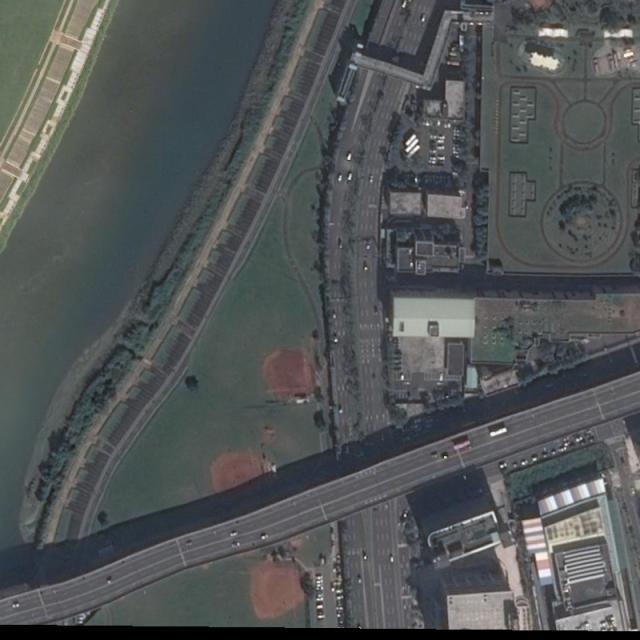vehicle: (406, 138, 420, 153), (407, 145, 421, 158), (453, 441, 470, 451), (490, 428, 507, 438), (406, 134, 417, 147), (532, 454, 540, 462), (499, 462, 508, 469), (558, 446, 567, 453), (402, 1, 409, 9), (346, 153, 352, 162), (421, 14, 427, 22), (261, 534, 269, 540), (230, 532, 238, 538), (431, 452, 439, 458), (542, 452, 550, 458), (575, 436, 583, 442), (521, 460, 528, 466), (11, 603, 19, 608), (232, 542, 240, 547), (338, 173, 342, 182), (348, 171, 352, 180), (551, 450, 558, 455), (564, 441, 571, 446), (366, 242, 370, 250), (370, 174, 374, 182), (338, 241, 342, 248), (390, 555, 394, 562), (363, 552, 366, 559), (316, 576, 323, 579), (358, 577, 362, 582), (317, 587, 323, 590), (316, 580, 322, 583), (317, 598, 323, 601), (316, 584, 323, 586)
